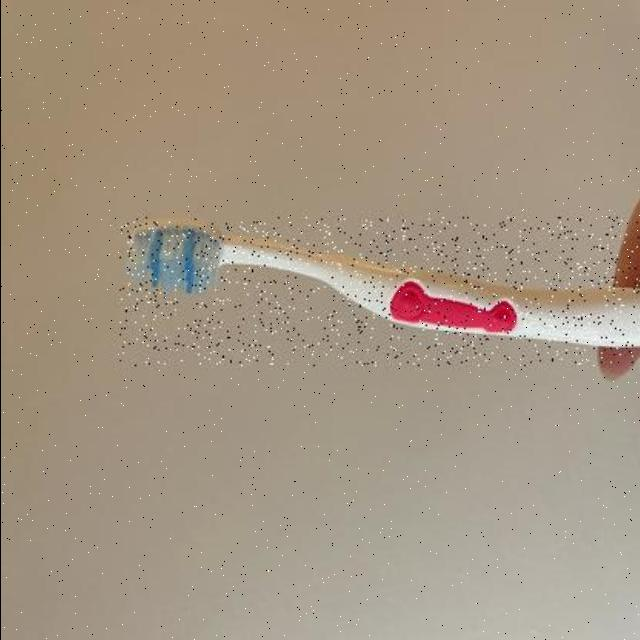toothbrush: (118, 218, 640, 366)
